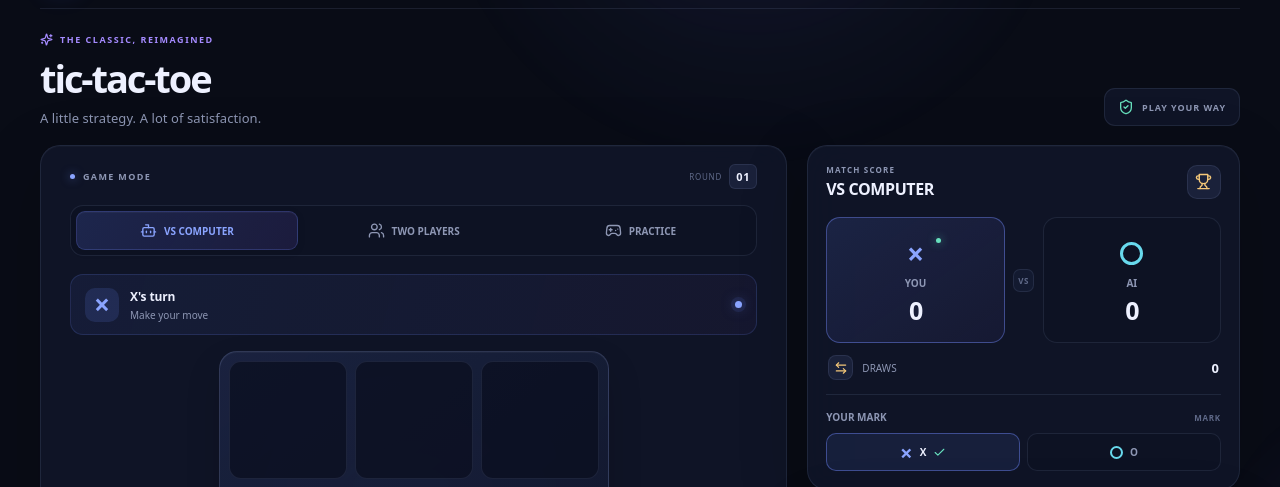
Test case: app interactions › schedules an AI response and cancels stale responses on restart
Click the button named "Row 1, Column 1, empty": (288, 420) [229,361,347,479]
(page scrolled)
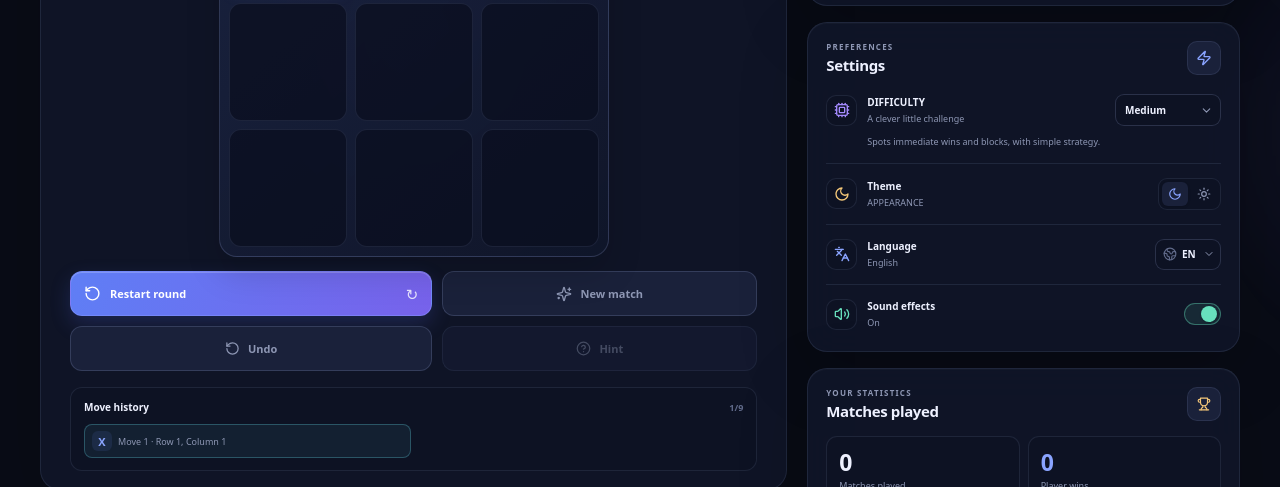
Click the button "Restart round ↻": (148, 294) [70,271,432,316]
Wait 500 ms
(page scrolled)
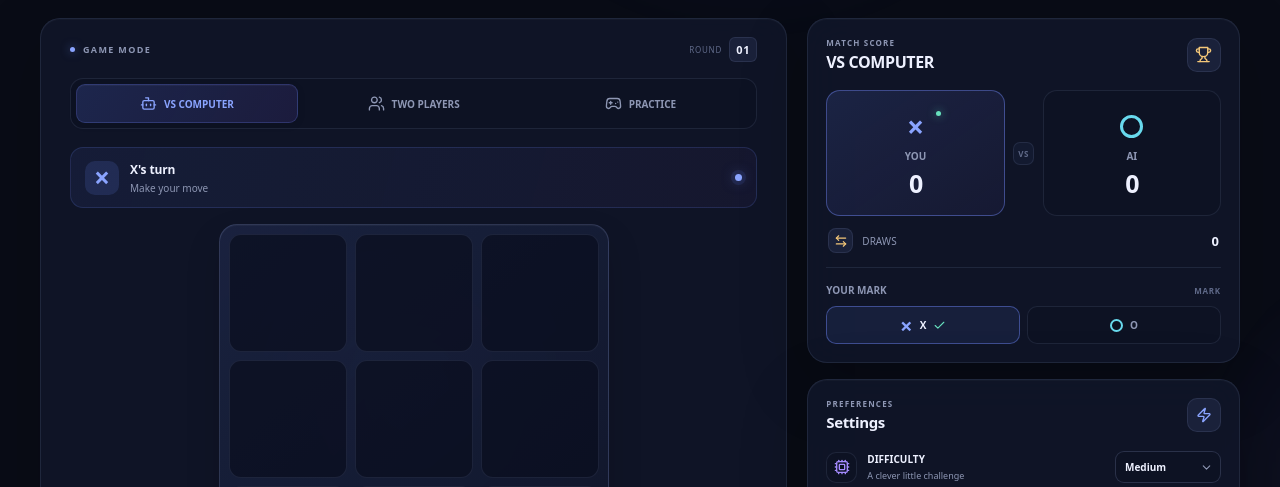
Expected: the button named "Row 1, Column 1, empty" is enabled, [229,234,347,352]
